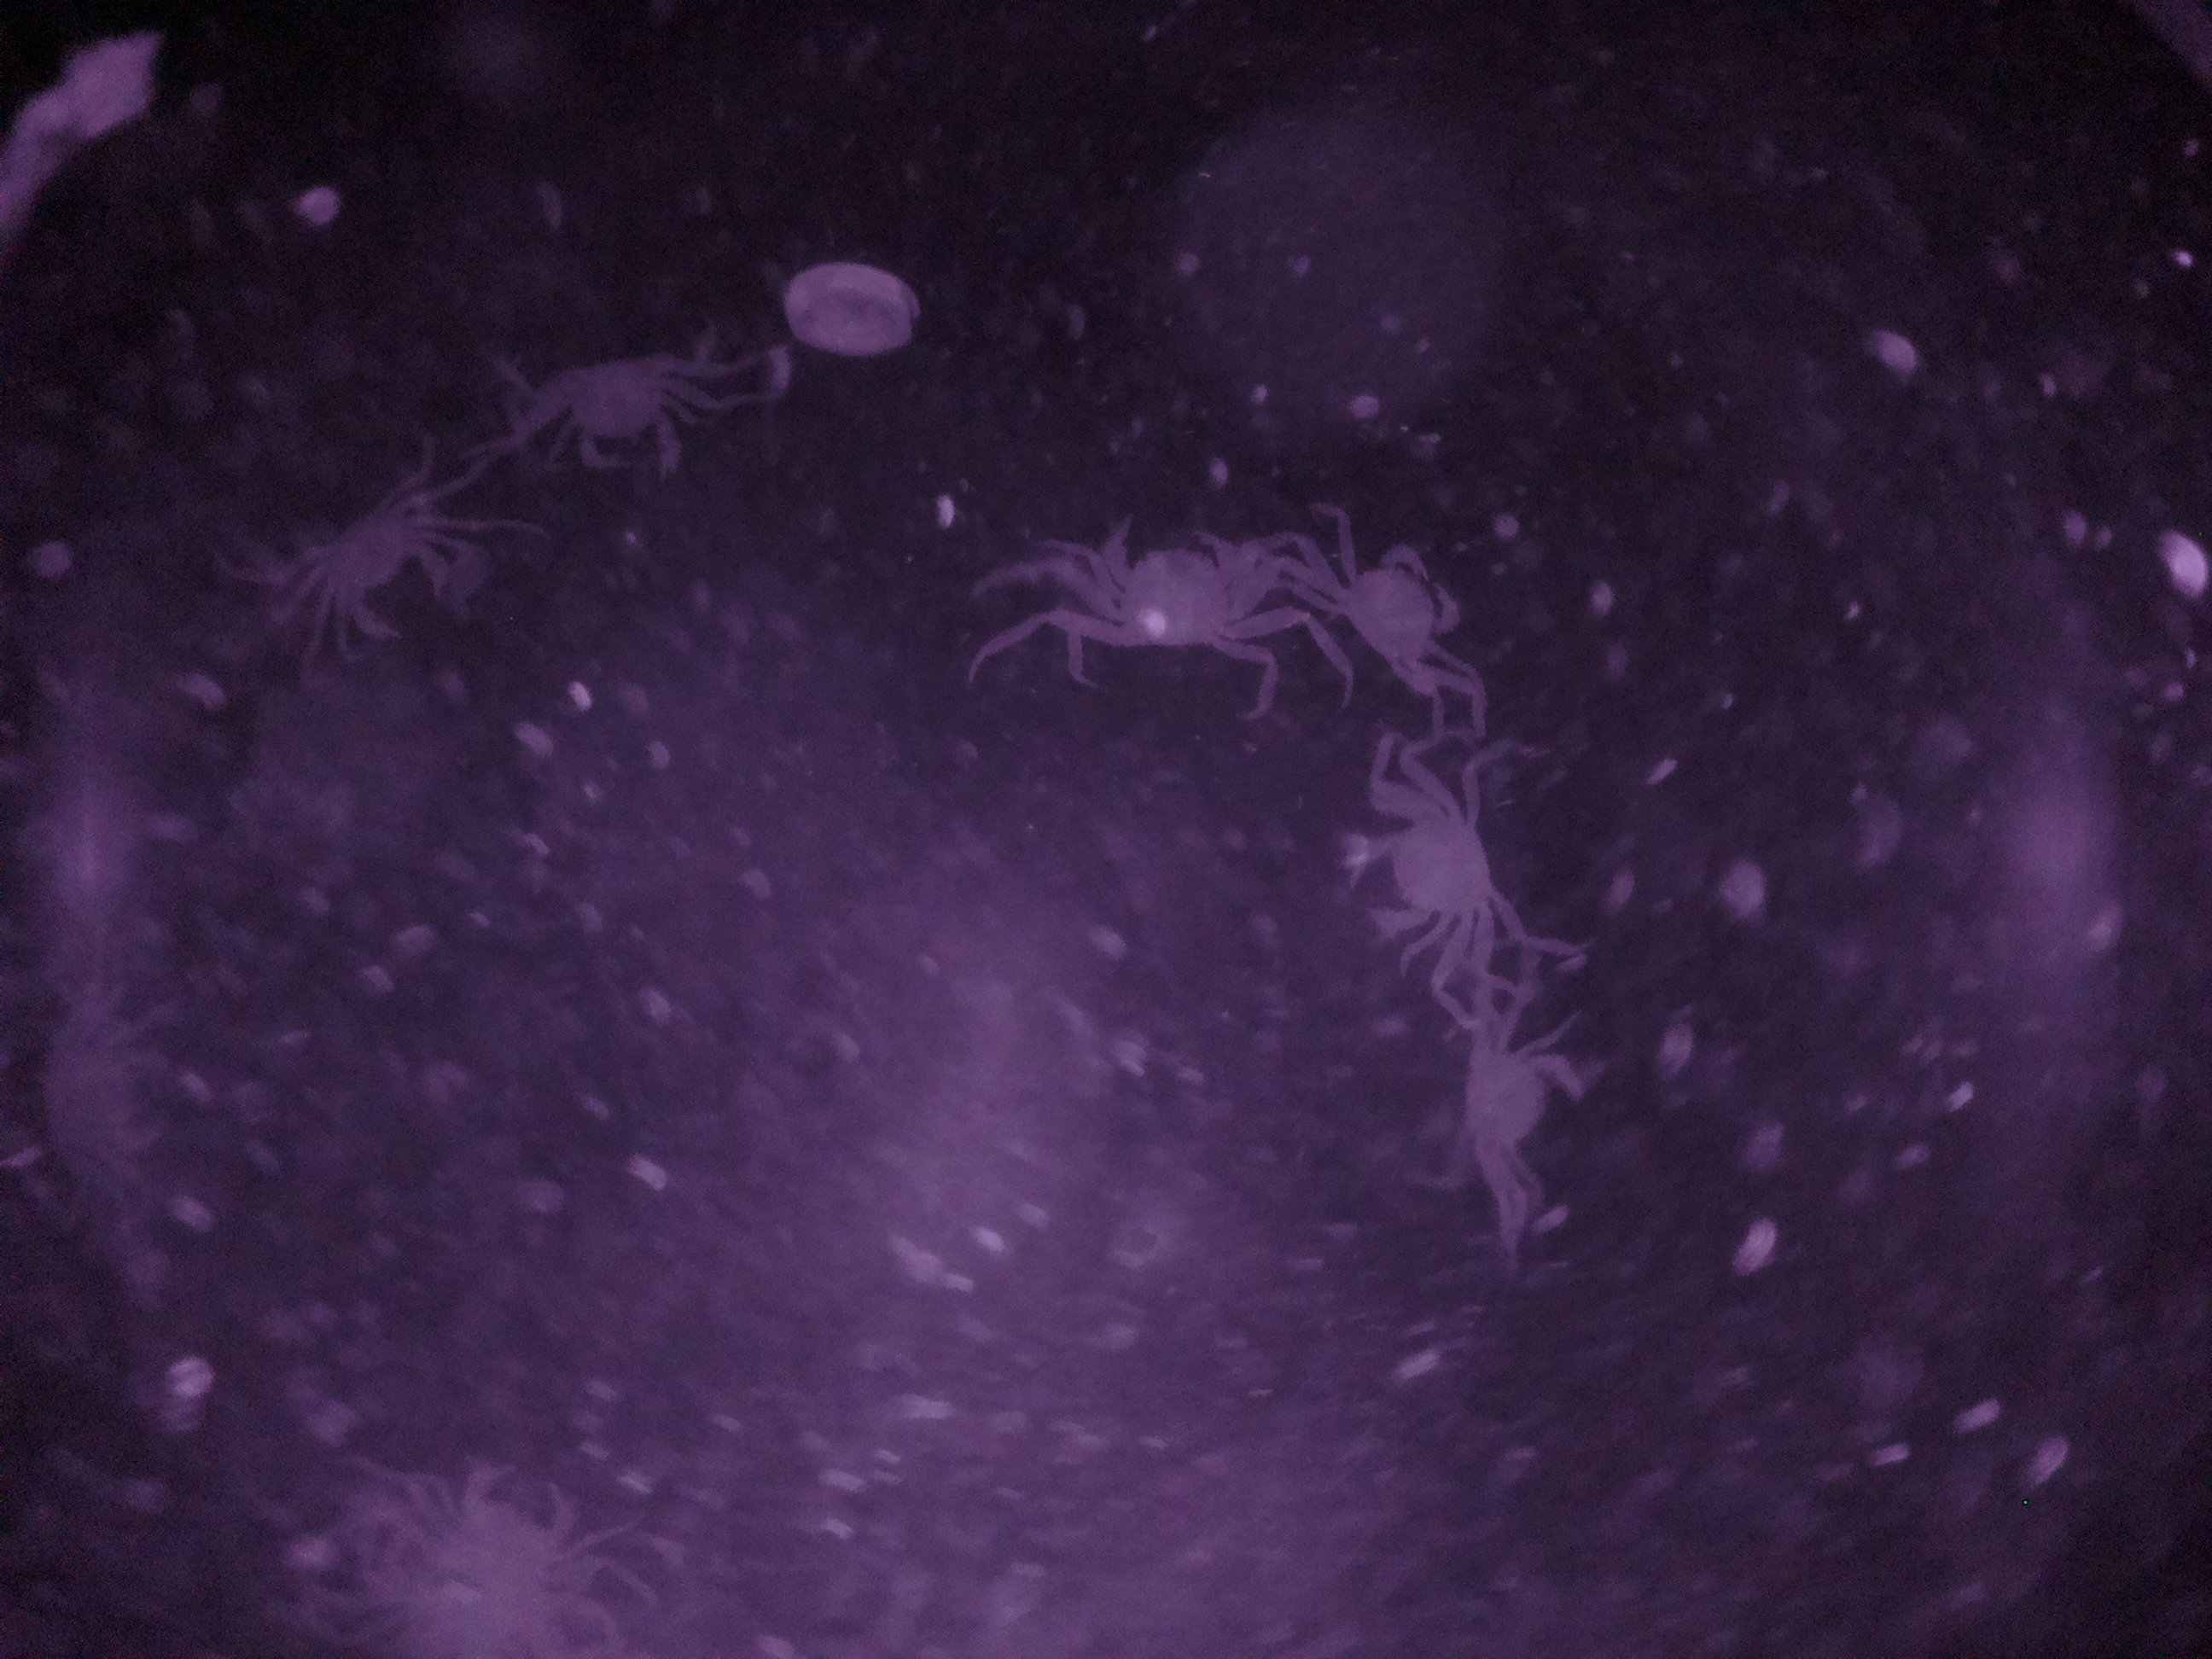Crab: (1327, 767, 1540, 986), (1066, 504, 1282, 685), (1305, 526, 1479, 702)
